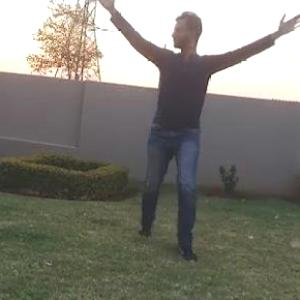takeoff: (109, 1, 299, 247)
